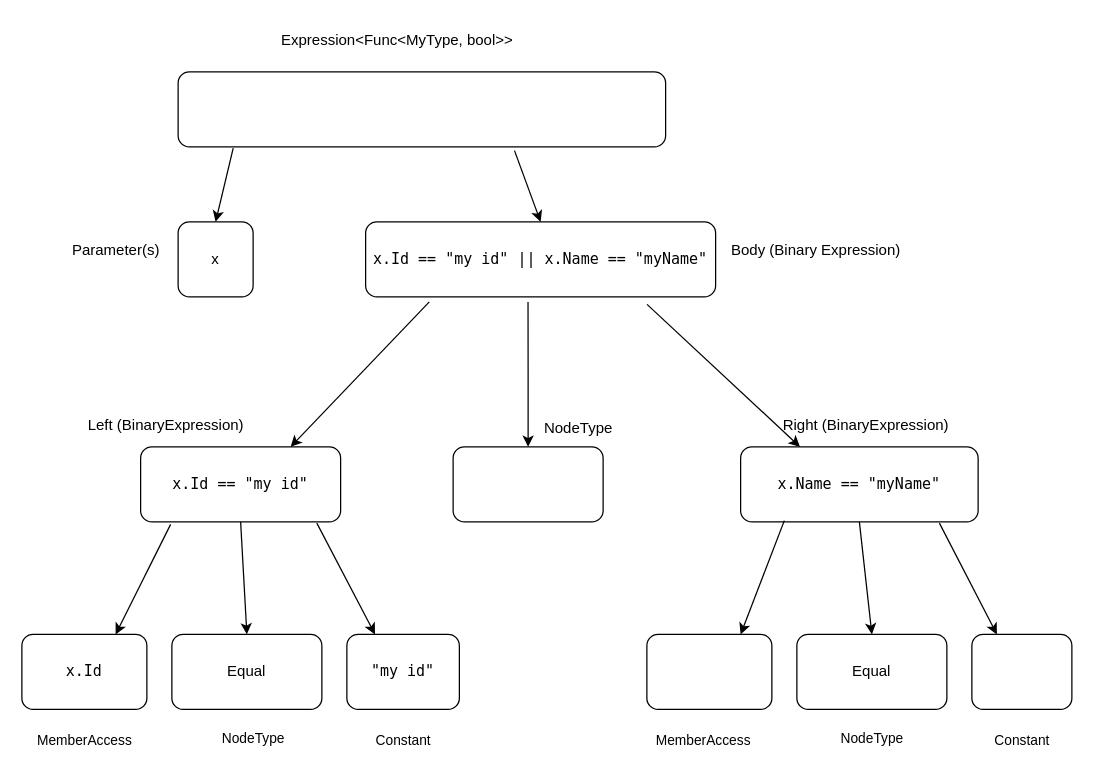
Some shapes in this 1094 by 780 pixel diagram are drawn without their labels. Each missing label, with the box of its shape:
"myName": (971, 633, 1072, 709)
orElse: (452, 446, 603, 522)
x => x.Id == "my id" || x.Name == "myName": (177, 71, 666, 147)
x.Name: (646, 633, 772, 709)
